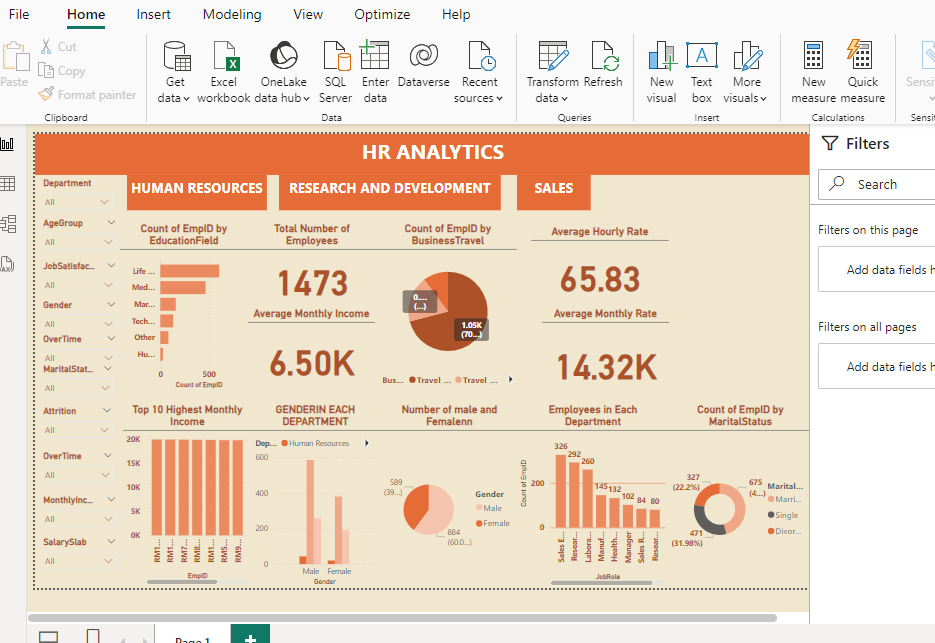

What the dashboard file says about the page in this screenshot:
{"tool":"powerbi","page":{"name":"Page 1","canvas":[1280,720],"ordinal":0},"visuals":[{"type":"slicer","fields":{"Values":["HR_Analytics.AgeGroup"]},"box":[0,120.6,139.7,68.3],"z":0},{"type":"slicer","fields":{"Values":["HR_Analytics.Gender"]},"box":[0,258.6,139.7,67.2],"z":1},{"type":"slicer","fields":{"Values":["HR_Analytics.OverTime"]},"box":[0,312.1,139.7,65.5],"z":2},{"type":"slicer","fields":{"Values":["HR_Analytics.SalarySlab"]},"box":[0,634.5,139.7,72.4],"z":3},{"type":"slicer","fields":{"Values":["HR_Analytics.MaritalStatus"]},"box":[0,360.3,134.5,67.2],"z":4},{"type":"slicer","fields":{"Values":["HR_Analytics.MonthlyIncome_grade"]},"box":[0,569,139.7,65.5],"z":5},{"type":"slicer","fields":{"Values":["HR_Analytics.Attrition"]},"box":[0,427.6,132.8,70.7],"z":6},{"type":"slicer","fields":{"Values":["HR_Analytics.OverTime"]},"box":[0,498.3,134.5,70.7],"z":7},{"type":"slicer","fields":{"Values":["HR_Analytics.JobSatisfaction"]},"box":[0,196.6,139.7,62.1],"z":8},{"type":"clusteredColumnChart","title":"Top 10 Highest Monthly Income","fields":{"Y":["Sum(HR_Analytics.MonthlyIncome)"],"Category":["HR_Analytics.EmpID"]},"box":[139.7,427,204.8,292.1],"z":9},{"type":"textbox","box":[146,65.1,222.2,55.6],"z":10},{"type":"textbox","box":[387.3,65.1,352.4,55.6],"z":11},{"type":"textbox","box":[765.1,65.1,117.5,55.6],"z":12},{"type":"slicer","fields":{"Values":["HR_Analytics.Department"]},"box":[1.6,65.1,133.3,55.6],"z":13},{"type":"clusteredColumnChart","title":"Employees in Each Department by Gender","fields":{"Category":["HR_Analytics.Gender"],"Y":["CountNonNull(HR_Analytics.EmpID)"],"Series":["HR_Analytics.Department"]},"box":[344.4,427,201.6,293.7],"z":14},{"type":"pieChart","title":"Employees in the Company by Gender","fields":{"Category":["HR_Analytics.Gender"],"Y":["CountNonNull(HR_Analytics.EmpID)"]},"box":[546,427,223.8,293.7],"z":15},{"type":"lineStackedColumnComboChart","title":"Employees in Each Role","fields":{"Y":["CountNonNull(HR_Analytics.EmpID)"],"Category":["HR_Analytics.JobRole"]},"box":[765.1,427,241.3,293.7],"z":16},{"type":"donutChart","title":"Proportion of Employees by MaritalStatus","fields":{"Category":["HR_Analytics.MaritalStatus"],"Y":["CountNonNull(HR_Analytics.EmpID)"]},"box":[1006.3,427,227,292.1],"z":17},{"type":"clusteredBarChart","title":"Employees and their  Education Field","fields":{"Y":["CountNonNull(HR_Analytics.EmpID)"],"Category":["HR_Analytics.EducationField"]},"box":[134.9,139.7,203.2,268.3],"z":18},{"type":"textbox","box":[1.6,0,1277.8,65.1],"z":19},{"type":"card","title":"Total Number of Employees","fields":{"Values":["CountNonNull(HR_Analytics.EmpID)"]},"box":[333.3,139.7,212.7,134.9],"z":20},{"type":"card","title":"Average Monthly Income","fields":{"Values":["Avg(HR_Analytics.MonthlyIncome)"]},"box":[338.1,274.6,201.6,138.1],"z":21},{"type":"pieChart","title":"Proportion of Employees that Travel or Rarely Travel","fields":{"Category":["HR_Analytics.BusinessTravel"],"Y":["CountNonNull(HR_Analytics.EmpID)"]},"box":[546,139.7,219,268.3],"z":22},{"type":"card","title":"Average Hourly Rate","fields":{"Values":["Avg(HR_Analytics.HourlyRate)"]},"box":[787.3,144.4,219,130.2],"z":23},{"type":"card","title":"Average Monthly Rate","fields":{"Values":["Avg(HR_Analytics.MonthlyRate)"]},"box":[804.8,274.6,201.6,149.2],"z":24},{"type":"columnChart","title":"Number of Employees with their percentage Salary Hike","fields":{"Y":["CountNonNull(HR_Analytics.EmpID)"],"Category":["HR_Analytics.PercentSalaryHike"]},"box":[1006.3,144.4,257.1,268.3],"z":25},{"type":"pageNavigator","box":[896.8,65.1,360.3,55.6],"z":26}]}

Visuals, with their boxes on the page's 1280x720 design canvas (x1, y1, x2, y2). These are canvas units, not pixel positions in the 935x643 screenshot, which may show the page scaled, cropped or inside an application window:
slicer - HR_Analytics.AgeGroup: [x1=0, y1=121, x2=140, y2=189]
slicer - HR_Analytics.Gender: [x1=0, y1=259, x2=140, y2=326]
slicer - HR_Analytics.OverTime: [x1=0, y1=312, x2=140, y2=378]
slicer - HR_Analytics.SalarySlab: [x1=0, y1=634, x2=140, y2=707]
slicer - HR_Analytics.MaritalStatus: [x1=0, y1=360, x2=134, y2=428]
slicer - HR_Analytics.MonthlyIncome_grade: [x1=0, y1=569, x2=140, y2=634]
slicer - HR_Analytics.Attrition: [x1=0, y1=428, x2=133, y2=498]
slicer - HR_Analytics.OverTime: [x1=0, y1=498, x2=134, y2=569]
slicer - HR_Analytics.JobSatisfaction: [x1=0, y1=197, x2=140, y2=259]
"Top 10 Highest Monthly Income" clusteredColumnChart: [x1=140, y1=427, x2=344, y2=719]
textbox: [x1=146, y1=65, x2=368, y2=121]
textbox: [x1=387, y1=65, x2=740, y2=121]
textbox: [x1=765, y1=65, x2=883, y2=121]
slicer - HR_Analytics.Department: [x1=2, y1=65, x2=135, y2=121]
"Employees in Each Department by Gender" clusteredColumnChart: [x1=344, y1=427, x2=546, y2=721]
"Employees in the Company by Gender" pieChart: [x1=546, y1=427, x2=770, y2=721]
"Employees in Each Role" lineStackedColumnComboChart: [x1=765, y1=427, x2=1006, y2=721]
"Proportion of Employees by MaritalStatus" donutChart: [x1=1006, y1=427, x2=1233, y2=719]
"Employees and their  Education Field" clusteredBarChart: [x1=135, y1=140, x2=338, y2=408]
textbox: [x1=2, y1=0, x2=1279, y2=65]
"Total Number of Employees" card: [x1=333, y1=140, x2=546, y2=275]
"Average Monthly Income" card: [x1=338, y1=275, x2=540, y2=413]
"Proportion of Employees that Travel or Rarely Travel" pieChart: [x1=546, y1=140, x2=765, y2=408]
"Average Hourly Rate" card: [x1=787, y1=144, x2=1006, y2=275]
"Average Monthly Rate" card: [x1=805, y1=275, x2=1006, y2=424]
"Number of Employees with their percentage Salary Hike" columnChart: [x1=1006, y1=144, x2=1263, y2=413]
pageNavigator: [x1=897, y1=65, x2=1257, y2=121]
